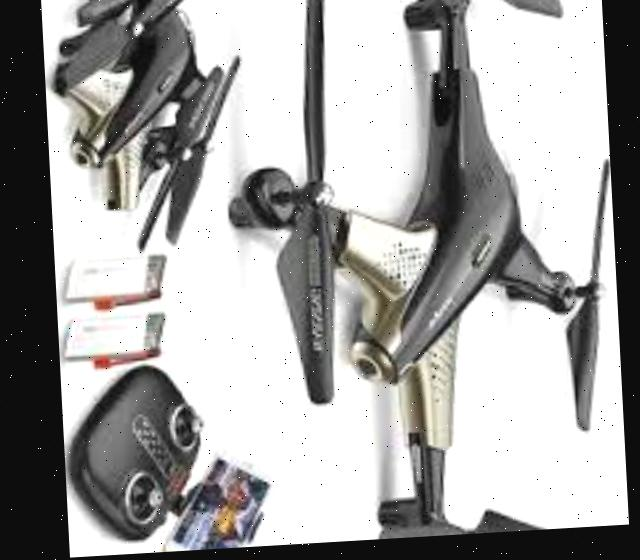drone: (214, 0, 623, 550)
